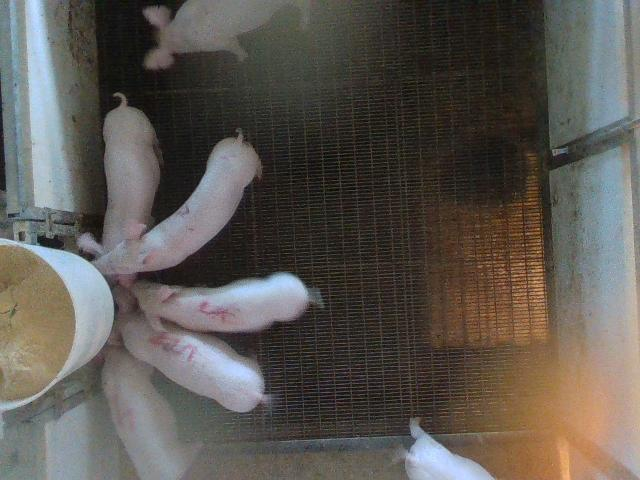pig-3: (109, 285, 264, 412)
pig-4: (102, 345, 196, 478)
pig-5: (131, 272, 322, 332)
